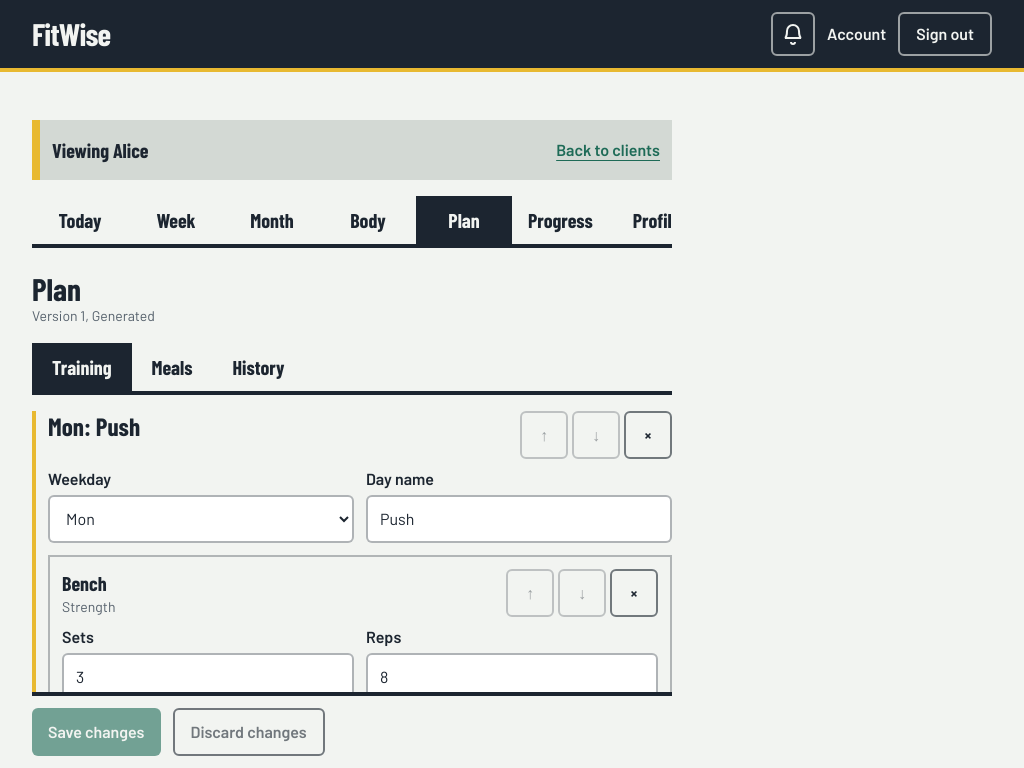
Test: QA #48: coach plan save after the link ended › shows the not-linked page when a plan save answers 403 not_linked
The image size is (1024, 768).
Replace the text in the field labelled "Sets" with "4" at (208, 677), box [62,653,354,701]
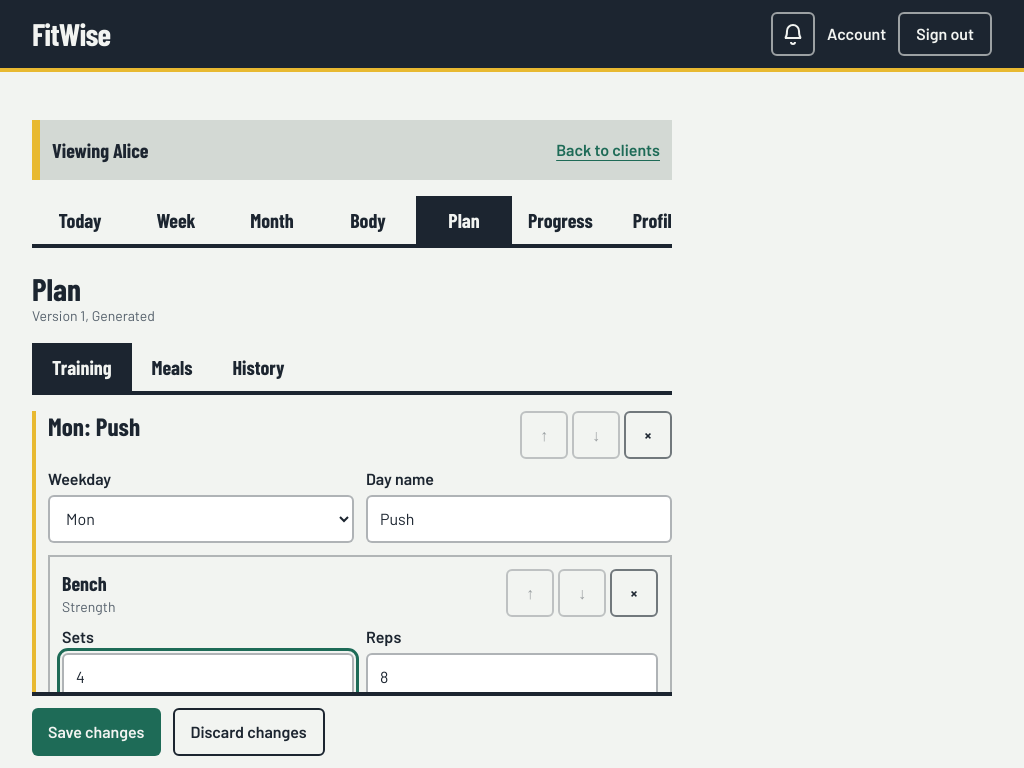
Click the button "Save changes" at (96, 732), box [32,708,160,756]
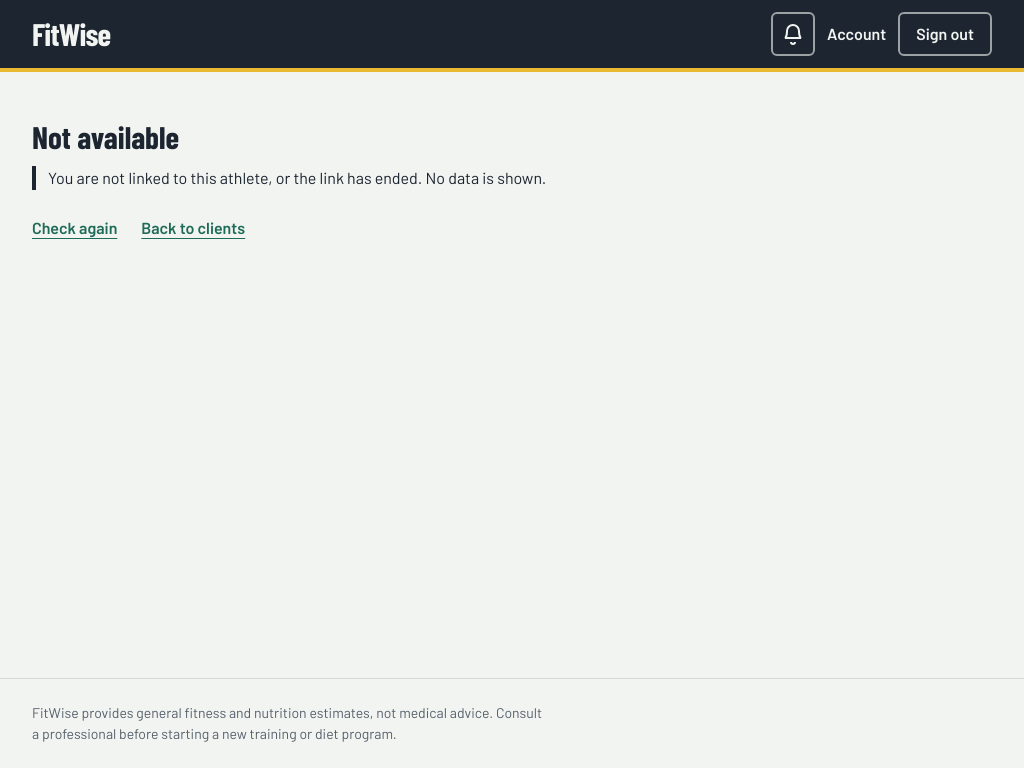
Expected: the element with test id "not-linked" is shown, [32,120,672,250]
Expected: the label labelled "Sets" is gone
